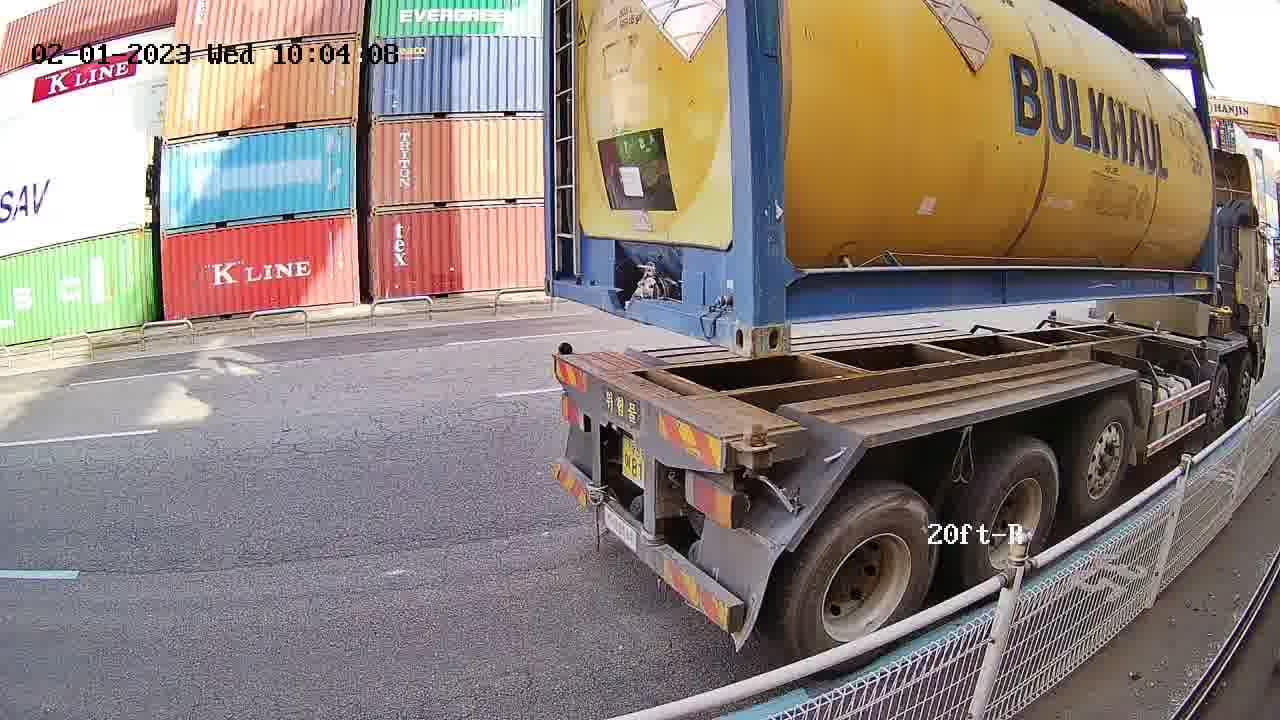Chassis: (553, 352, 769, 473)
Cone: (732, 424, 775, 471), (553, 343, 577, 360)
Hole_L: (753, 284, 825, 358), (543, 247, 579, 304)
Hole_R: (702, 284, 752, 361)
Tire: (792, 488, 937, 680), (961, 439, 1058, 591), (1072, 399, 1136, 526)
